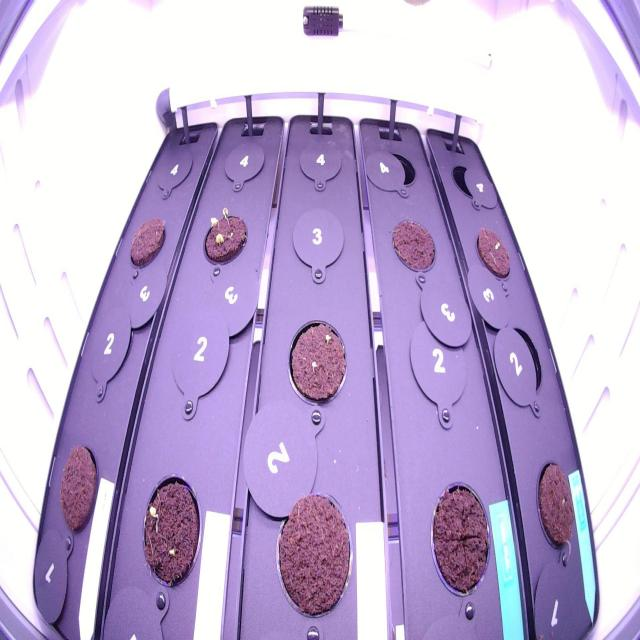empty_pod: (163, 304, 235, 399), (406, 316, 475, 414), (493, 320, 547, 411), (288, 202, 349, 274), (84, 304, 136, 382), (219, 134, 270, 193), (293, 133, 345, 189), (150, 145, 195, 203), (371, 142, 418, 196), (446, 153, 493, 206)
germination: (132, 468, 206, 594), (282, 314, 350, 414), (198, 188, 251, 272), (473, 214, 519, 289)
pod: (268, 484, 360, 622), (423, 473, 495, 611), (532, 454, 586, 563), (54, 436, 102, 539), (384, 208, 439, 283), (122, 209, 168, 280)
